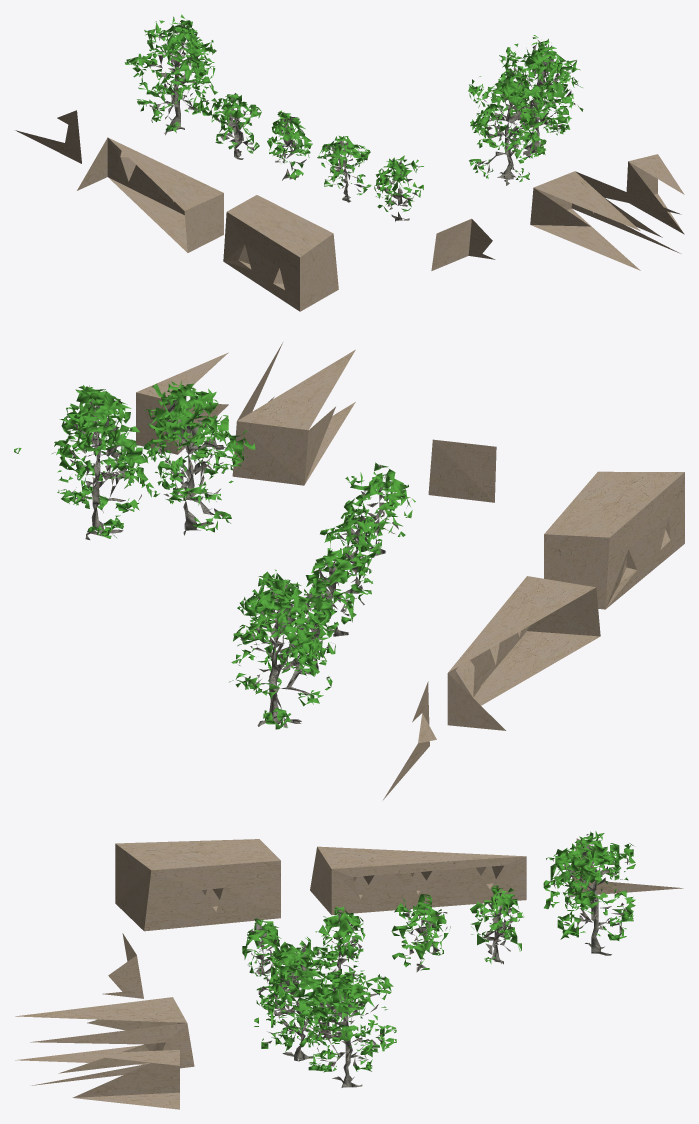
File: tile_-1_1.gltf
3 views of the same model, one above another, from view 1: azimuth 30°, elevation 25°; view 2: azimuth 150°, elevation 25°; view 3: azimuth 270°, elevation 25° (orthographic). The views are drawn at different scales.
Parts seen in each view (by area): view 1: Plane.011@tile_-1_1, Bodhi Tree_Bodhi_front_2_Mat_0.044@tile_-1_1; view 2: Plane.011@tile_-1_1, Bodhi Tree_Bodhi_front_2_Mat_0.044@tile_-1_1; view 3: Plane.011@tile_-1_1, Bodhi Tree_Bodhi_front_2_Mat_0.044@tile_-1_1.
Part boxes in pixels (x1,y1,x2,y2): Plane.011@tile_-1_1: [15, 110, 684, 311]; Bodhi Tree_Bodhi_front_2_Mat_0.044@tile_-1_1: [124, 14, 583, 221]; Plane.011@tile_-1_1: [136, 342, 684, 799]; Bodhi Tree_Bodhi_front_2_Mat_0.044@tile_-1_1: [14, 380, 415, 729]; Plane.011@tile_-1_1: [15, 838, 683, 1109]; Bodhi Tree_Bodhi_front_2_Mat_0.044@tile_-1_1: [242, 831, 635, 1087].
Bounding box in the file's own units: 68.71 × 17.41 × 83.84.
3 materials, 2 textured.
